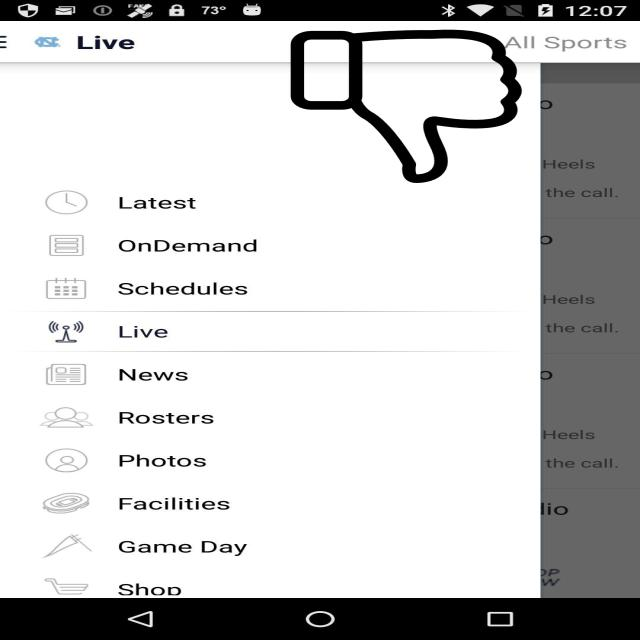obstruction: (287, 30, 525, 183)
